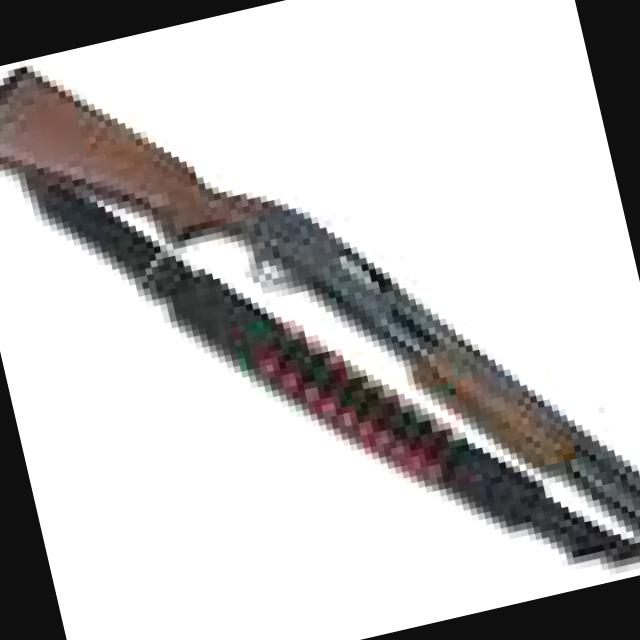long weapon: (0, 58, 640, 561)
